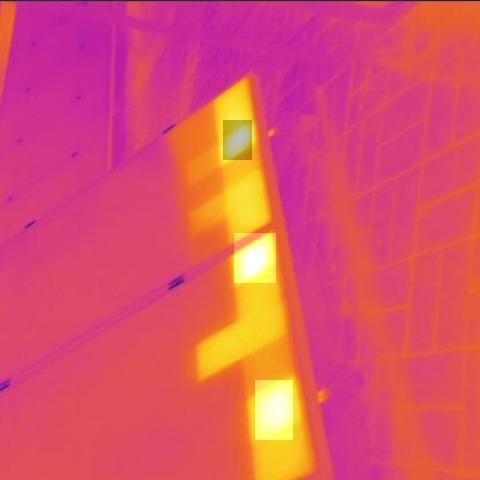fault: (256, 380, 294, 440), (234, 233, 276, 283), (223, 120, 252, 160)
